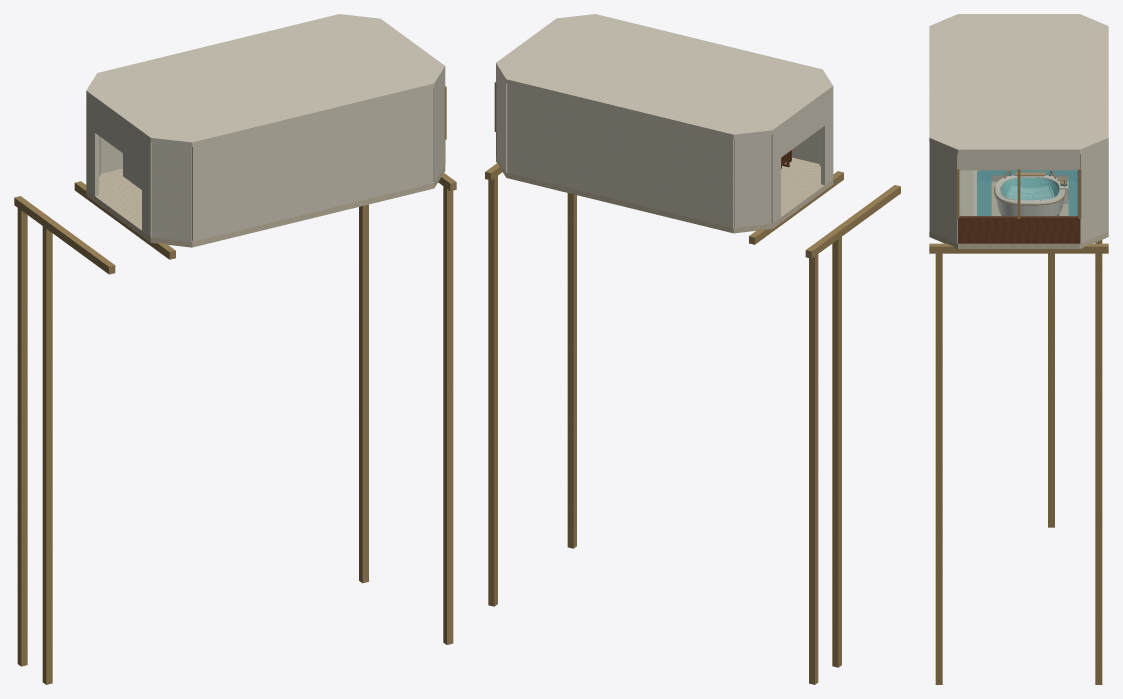
Rendered from D04_PORT_CENTRAL_HOME_965_r001.glb.
The picture shows the model from 3 angles, left to right: view 1: azimuth 30°, elevation 25°; view 2: azimuth 150°, elevation 25°; view 3: azimuth 270°, elevation 25°; orthographic projection. The views are drawn at different scales.
Visible parts, largest first — view 1: PC965_D04H964_Roof, PC965_D04H964_Shell_3, PC965_D04H964_Pier_13, PC965_D04H964_Pier_14, PC965_D04H964_Pier_16, PC965_D04H964_Floor, PC965_D04H964_Shell_2, PC965_D04H964_Pier_15, PC965_D04H964_EntryHeader, PC965_D04H964_ClearSupportLong, PC965_D04H964_Shell_4, PC965_D04H964_EntryWall_0 (+2 smaller); view 2: PC965_D04H964_Roof, PC965_D04H964_Shell_7, PC965_D04H964_Pier_15, PC965_D04H964_Pier_13, PC965_D04H964_Pier_14, PC965_D04H964_Floor, PC965_D04H964_Pier_16, PC965_D04H964_Shell_0, PC965_D04H964_EntryHeader, PC965_D04H964_ClearSupportLong, PC965_D04H964_Shell_6, PC965_D04H964_EntryWall_1 (+1 smaller); view 3: PC965_D04H964_Roof, PC965_D04H964_GardenGlass, PC965_D04H964_Pier_15, PC965_D04H964_Pier_16, PC965_D04H964_GardenDado, PC965_D04H964_Shell_4, PC965_D04H964_Shell_6, PC965_D04H964_GardenHead, PC965_D04H964_Floor, PC965_ReservedAquaticRest__Hollow continuous basin shell wit, PC965_D04H964_Pier_14, PC965_D04H964_Water_0 (+4 smaller).
Part boxes in pixels (x1,y1,x2,y2): PC965_D04H964_Roof: (86, 14, 445, 147); PC965_D04H964_Shell_3: (192, 88, 433, 241); PC965_D04H964_Pier_13: (17, 198, 27, 666); PC965_D04H964_Pier_14: (42, 217, 52, 684); PC965_D04H964_Pier_16: (443, 177, 453, 644); PC965_D04H964_Floor: (86, 165, 445, 247); PC965_D04H964_Shell_2: (151, 142, 191, 241); PC965_D04H964_Pier_15: (359, 204, 368, 583); PC965_D04H964_EntryHeader: (95, 102, 141, 166); PC965_D04H964_ClearSupportLong: (14, 196, 115, 274); PC965_D04H964_Shell_4: (433, 71, 444, 182); PC965_D04H964_EntryWall_0: (86, 95, 98, 196); PC965_D04H964_Roof: (496, 14, 833, 138); PC965_D04H964_Shell_7: (507, 84, 733, 227); PC965_D04H964_Pier_15: (488, 167, 497, 606); PC965_D04H964_Pier_13: (809, 245, 818, 684); PC965_D04H964_Pier_14: (832, 228, 841, 667); PC965_D04H964_Floor: (496, 156, 833, 233); PC965_D04H964_Pier_16: (567, 193, 576, 548); PC965_D04H964_Shell_0: (734, 135, 771, 227); PC965_D04H964_EntryHeader: (781, 96, 824, 157); PC965_D04H964_ClearSupportLong: (805, 185, 900, 258); PC965_D04H964_Shell_6: (496, 68, 507, 172); PC965_D04H964_EntryWall_1: (821, 90, 833, 185); PC965_D04H964_Roof: (929, 14, 1108, 154); PC965_D04H964_GardenGlass: (960, 170, 1077, 216); PC965_D04H964_Pier_15: (1095, 243, 1102, 684); PC965_D04H964_Pier_16: (935, 243, 942, 684); PC965_D04H964_GardenDado: (958, 216, 1079, 243); PC965_D04H964_Shell_4: (930, 142, 960, 243); PC965_D04H964_Shell_6: (1077, 142, 1107, 243); PC965_D04H964_GardenHead: (958, 154, 1079, 170); PC965_D04H964_Floor: (929, 170, 1108, 248); PC965_ReservedAquaticRest__Hollow continuous basin shell wit: (995, 175, 1065, 215); PC965_D04H964_Pier_14: (1048, 253, 1054, 527); PC965_D04H964_Water_0: (977, 170, 1077, 215).
Size of the model in its own units: 15.42 by 23.78 by 7.2.
Materials: 40 (21 with a texture image).
